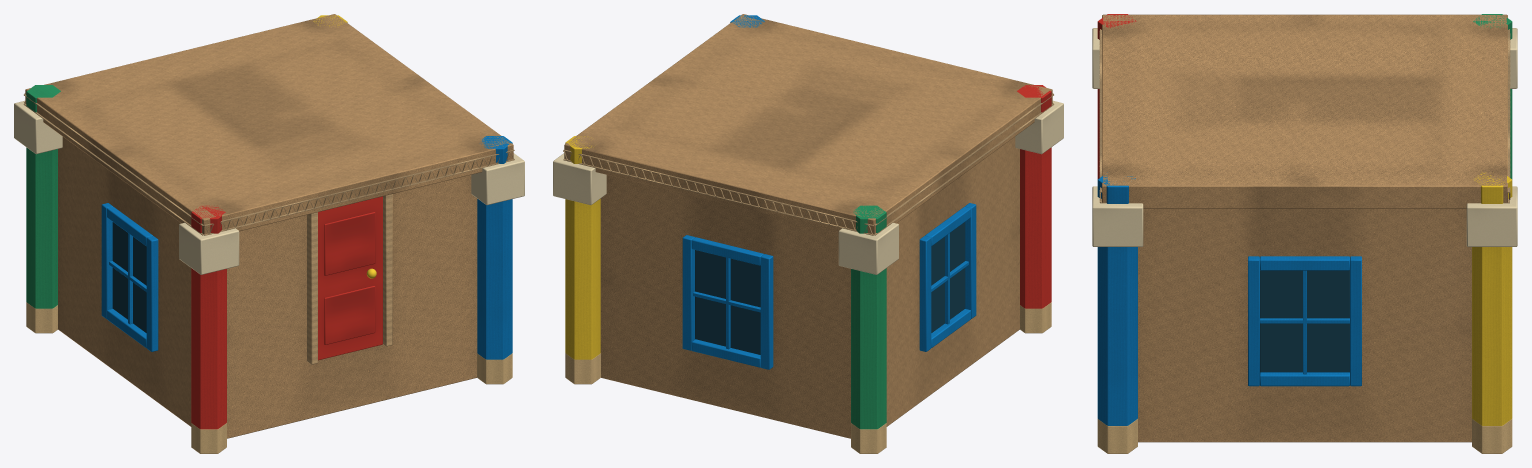
The model's file is 1-pencil-supported-box-1-1.fbx.
3 views of the same model, side by side, from view 1: azimuth 30°, elevation 25°; view 2: azimuth 150°, elevation 25°; view 3: azimuth 270°, elevation 25° (orthographic). The views are drawn at different scales.
Parts seen in each view (by area): view 1: pencil-supported-box-1-1; view 2: pencil-supported-box-1-1; view 3: pencil-supported-box-1-1.
Boxes of the visible parts, x1,y1,x2,y2 form: pencil-supported-box-1-1: (14, 14, 524, 453); pencil-supported-box-1-1: (553, 14, 1063, 453); pencil-supported-box-1-1: (1092, 14, 1517, 453).
Size of the model in its own units: 6700 by 4650 by 6700.
Materials: 1 (1 with a texture image).
